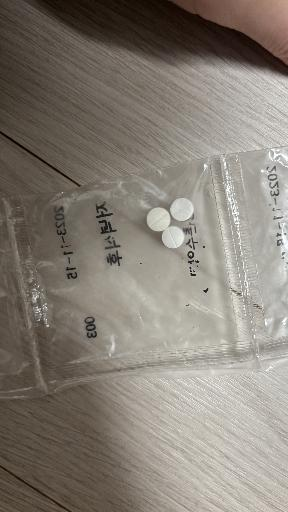Besti-on: (162, 226, 184, 249)
Gaster: (147, 207, 170, 232)
Solondo: (170, 198, 194, 221)
vinyl: (0, 146, 288, 398)
